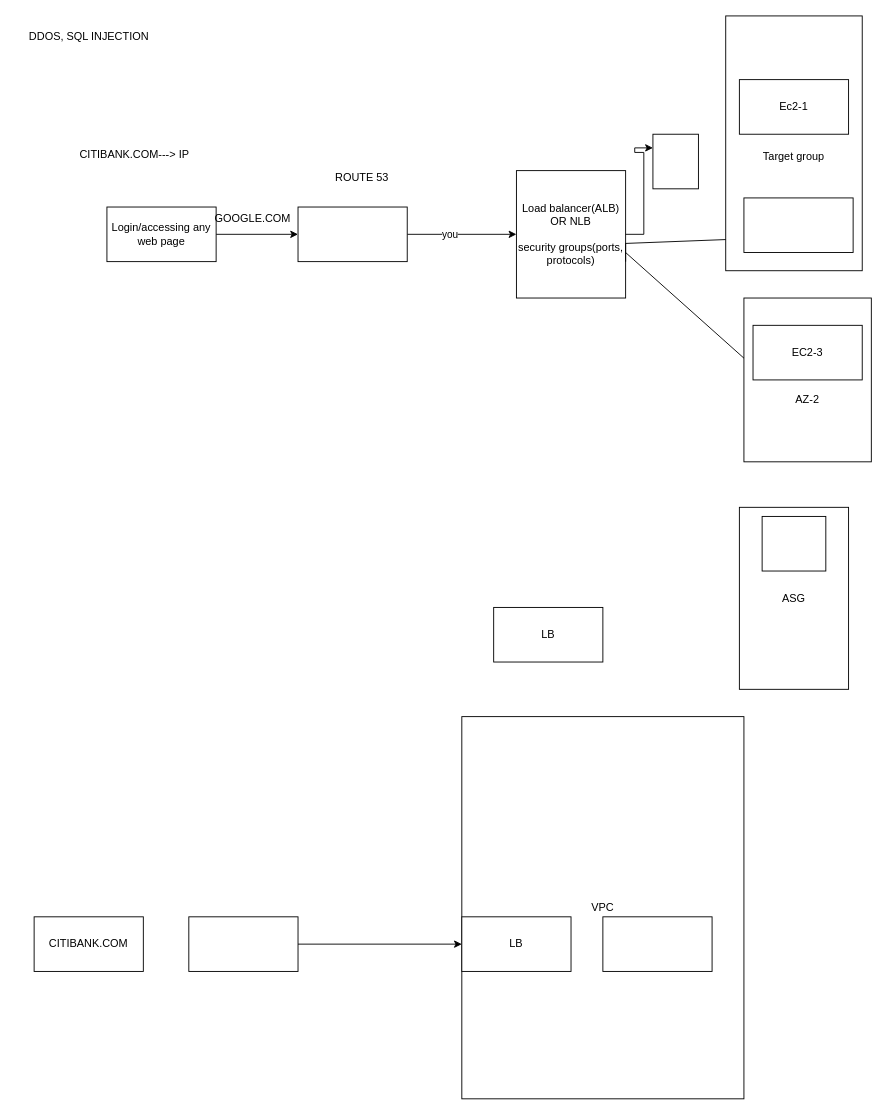
Some shapes in this 887 by 1115 pixel diagram are drawn without their labels. The centre of each missing label's shape, as x and y in pixels:
DNS(GOOGLE .COM) server gives you the response: point 352,234
EC2-2: point 798,225
EKS: point 657,943
listener groups(port 80): point 675,161
ROUTE53(URL): point 243,943
TARGET GROUP(EC2S): point 793,543
